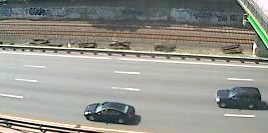car: (80, 100, 142, 125), (213, 86, 264, 113)
